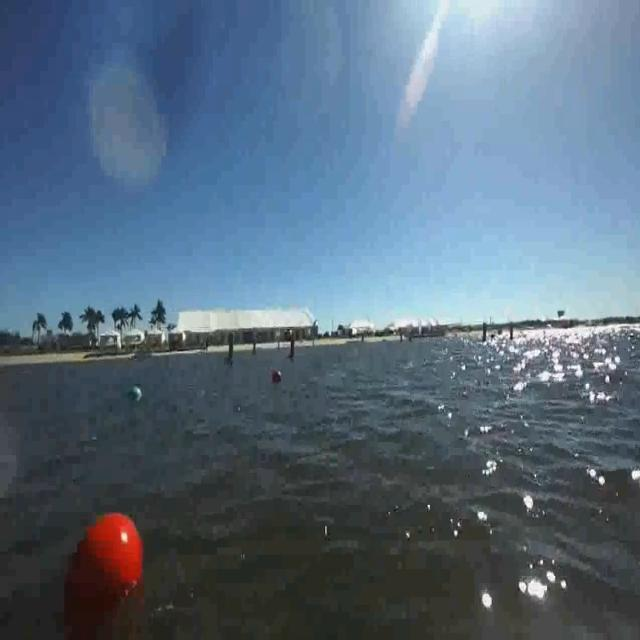green-buoy: (128, 386, 143, 406)
green-column-buoy: (227, 330, 234, 367)
red-buoy: (67, 506, 147, 594), (270, 370, 282, 385)
